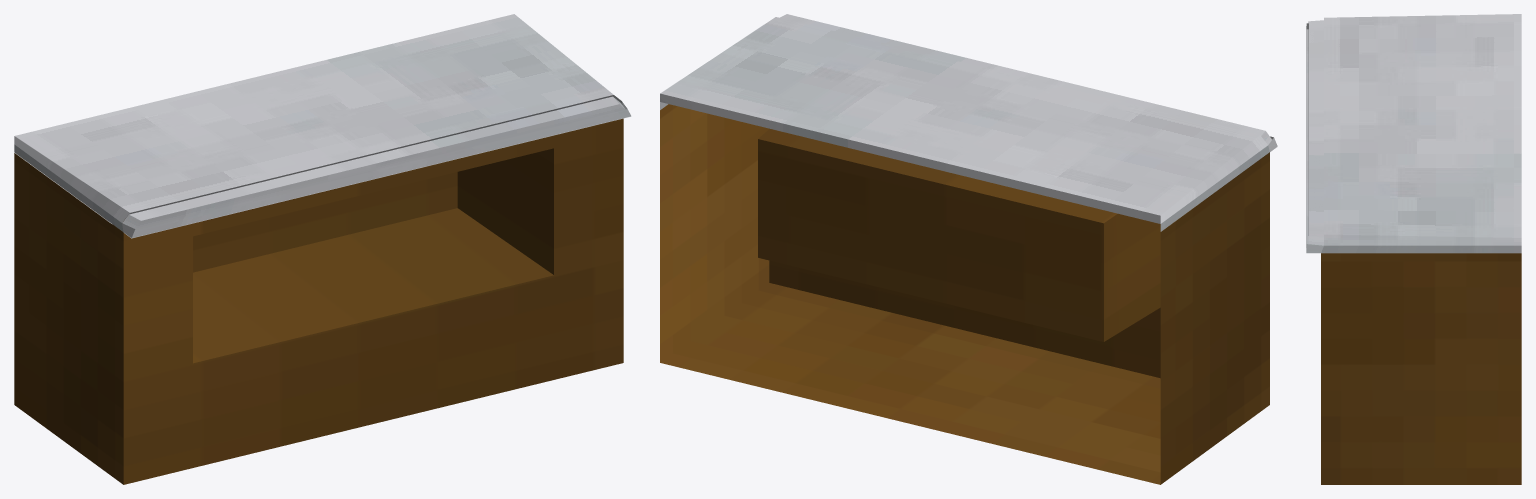
Rendered from countertop.glb.
The picture shows the model from 3 angles, left to right: view 1: azimuth 30°, elevation 25°; view 2: azimuth 150°, elevation 25°; view 3: azimuth 270°, elevation 25°; orthographic projection. The views are drawn at different scales.
Visible parts, largest first — view 1: Countertop, Countertop.001; view 2: Countertop, Countertop.001; view 3: Countertop.001, Countertop.
Part boxes in pixels (<box>): Countertop: <box>14,118,623,484</box>; Countertop.001: <box>14,14,631,238</box>; Countertop: <box>660,104,1269,484</box>; Countertop.001: <box>660,14,1277,231</box>; Countertop.001: <box>1306,14,1521,253</box>; Countertop: <box>1321,253,1521,484</box>.
Bounding box in the file's own units: 8.9 × 4.58 × 3.61.
Materials: 2 (2 with a texture image).
